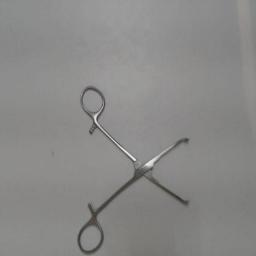Allis Tissue Forceps: (75, 80, 195, 256)
